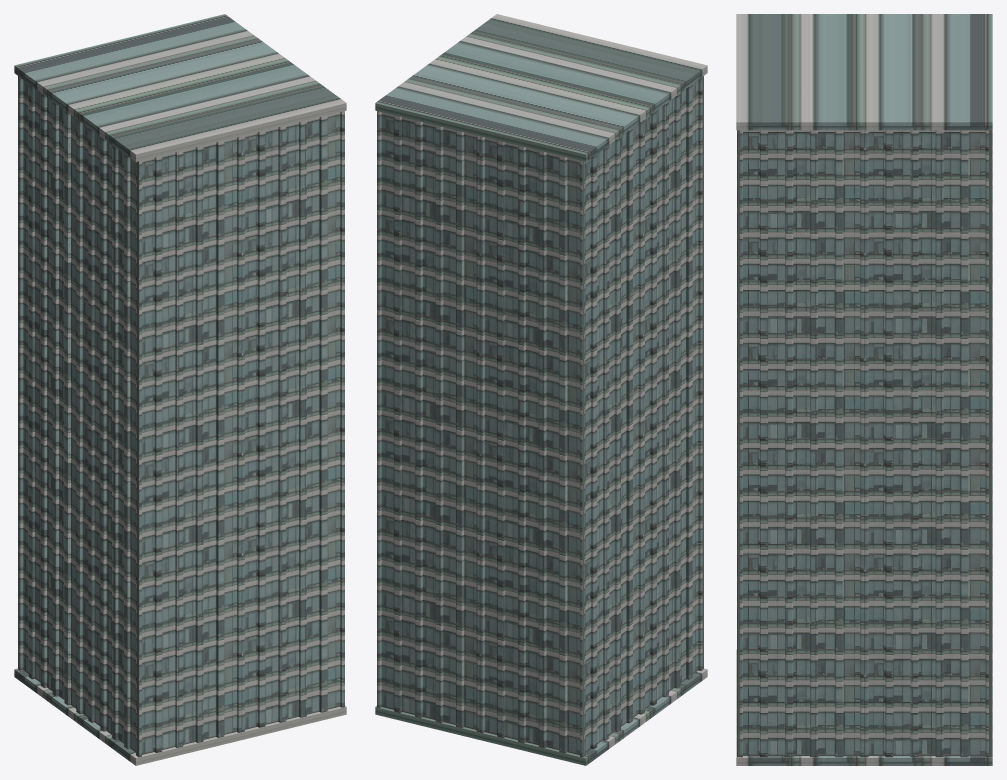
File: building 5.obj
The picture shows the model from 3 angles, left to right: view 1: azimuth 30°, elevation 25°; view 2: azimuth 150°, elevation 25°; view 3: azimuth 270°, elevation 25°; orthographic projection. The views are drawn at different scales.
Visible parts, largest first — view 1: Cube.001_Mesh; view 2: Cube.001_Mesh; view 3: Cube.001_Mesh.
Part boxes in pixels (x1,y1,x2,y2): Cube.001_Mesh: (14, 14, 346, 765); Cube.001_Mesh: (375, 14, 707, 765); Cube.001_Mesh: (736, 14, 992, 765).
Size of the model in its own units: 2.21 by 6.11 by 2.21.
2 materials, 2 textured.
